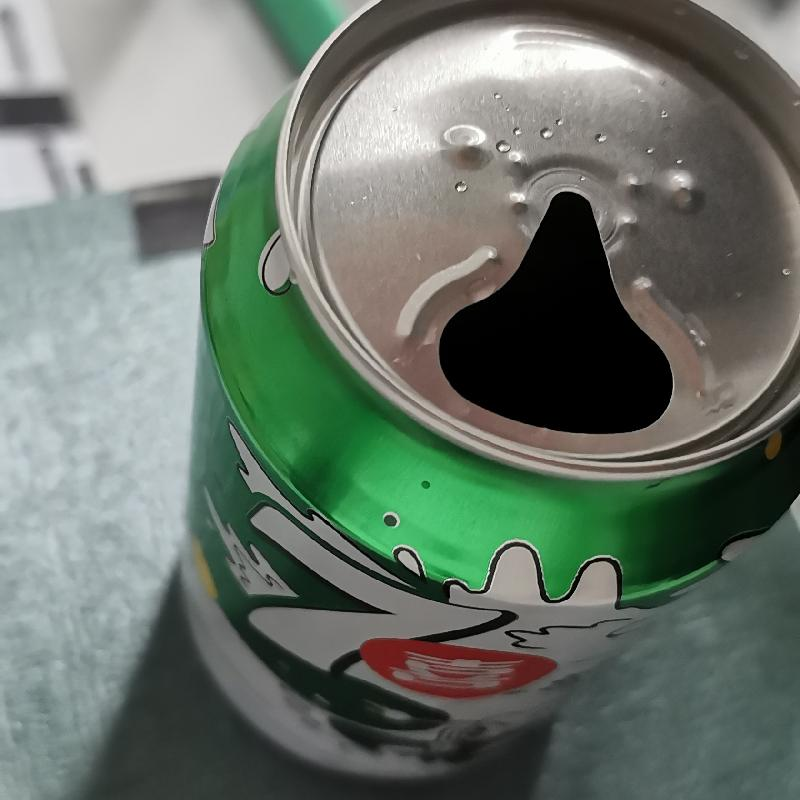cans: (197, 0, 800, 781)
